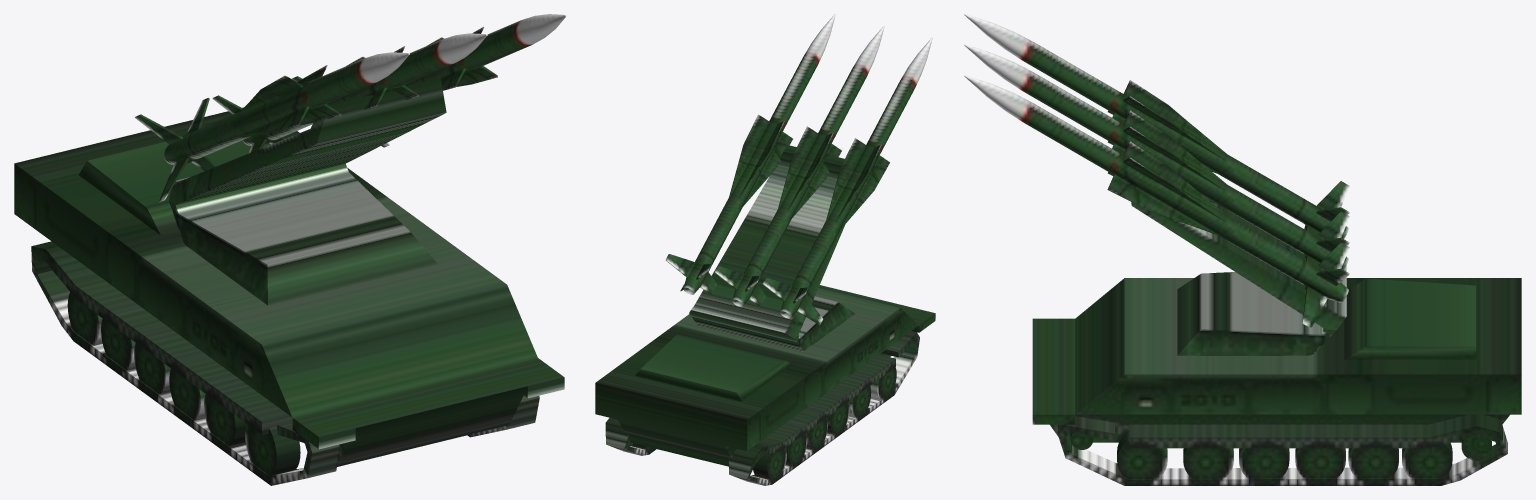
3 views of the same model, side by side, from view 1: azimuth 30°, elevation 25°; view 2: azimuth 150°, elevation 25°; view 3: azimuth 270°, elevation 25° (orthographic). The views are drawn at different scales.
Parts seen in each view (by area): view 1: Cube, Cube.001, Cube.003, Missile3, Missile2, MIssile1, Cylinder.006, Cylinder.007, Cylinder.010, Cylinder.011, Cylinder.008, Cylinder.009 (+1 smaller); view 2: Cube, Cube.001, Missile3, MIssile1, Missile2, Cube.003, Cube.002, Cylinder.008, Cylinder.006, Cylinder.011, Cylinder.007, Cylinder.010 (+1 smaller); view 3: Cube, Cube.002, Cube.001, MIssile1, Missile2, Missile3, Cylinder.005, Cylinder.003, Cylinder, Cylinder.001, Cylinder.004, Cylinder.002 (+1 smaller).
Part boxes in pixels (left/top/right/bottom): Cube: left=14, top=107, right=564, bottom=466; Cube.001: left=169, top=79, right=446, bottom=305; Cube.003: left=31, top=241, right=339, bottom=485; Missile3: left=135, top=52, right=409, bottom=202; Missile2: left=212, top=33, right=487, bottom=153; MIssile1: left=292, top=14, right=566, bottom=147; Cylinder.006: left=245, top=424, right=300, bottom=475; Cylinder.007: left=204, top=394, right=246, bottom=445; Cylinder.010: left=134, top=343, right=170, bottom=394; Cylinder.011: left=169, top=369, right=205, bottom=420; Cylinder.008: left=67, top=292, right=102, bottom=345; Cylinder.009: left=101, top=319, right=135, bottom=370; Cube: left=595, top=285, right=935, bottom=466; Cube.001: left=689, top=145, right=855, bottom=351; Missile3: left=762, top=38, right=932, bottom=325; MIssile1: left=665, top=14, right=835, bottom=294; Missile2: left=714, top=26, right=884, bottom=306; Cube.003: left=728, top=331, right=919, bottom=485; Cube.002: left=605, top=418, right=656, bottom=455; Cylinder.008: left=753, top=447, right=786, bottom=478; Cylinder.006: left=870, top=367, right=896, bottom=399; Cylinder.011: left=827, top=401, right=849, bottom=433; Cylinder.007: left=849, top=386, right=871, bottom=417; Cylinder.010: left=806, top=417, right=827, bottom=449; Cube: left=1032, top=278, right=1521, bottom=442; Cube.002: left=1058, top=414, right=1507, bottom=485; Cube.001: left=1131, top=202, right=1346, bottom=355; MIssile1: left=964, top=75, right=1349, bottom=328; Missile2: left=964, top=44, right=1349, bottom=269; Missile3: left=964, top=14, right=1349, bottom=238; Cylinder.005: left=1117, top=432, right=1167, bottom=478; Cylinder.003: left=1402, top=443, right=1452, bottom=477; Cylinder: left=1239, top=448, right=1289, bottom=478; Cylinder.001: left=1295, top=448, right=1345, bottom=478; Cylinder.004: left=1183, top=448, right=1233, bottom=478; Cylinder.002: left=1348, top=448, right=1398, bottom=478.
Size of the model in its own units: 1332 by 2571 by 3263.
1 material, 1 textured.
